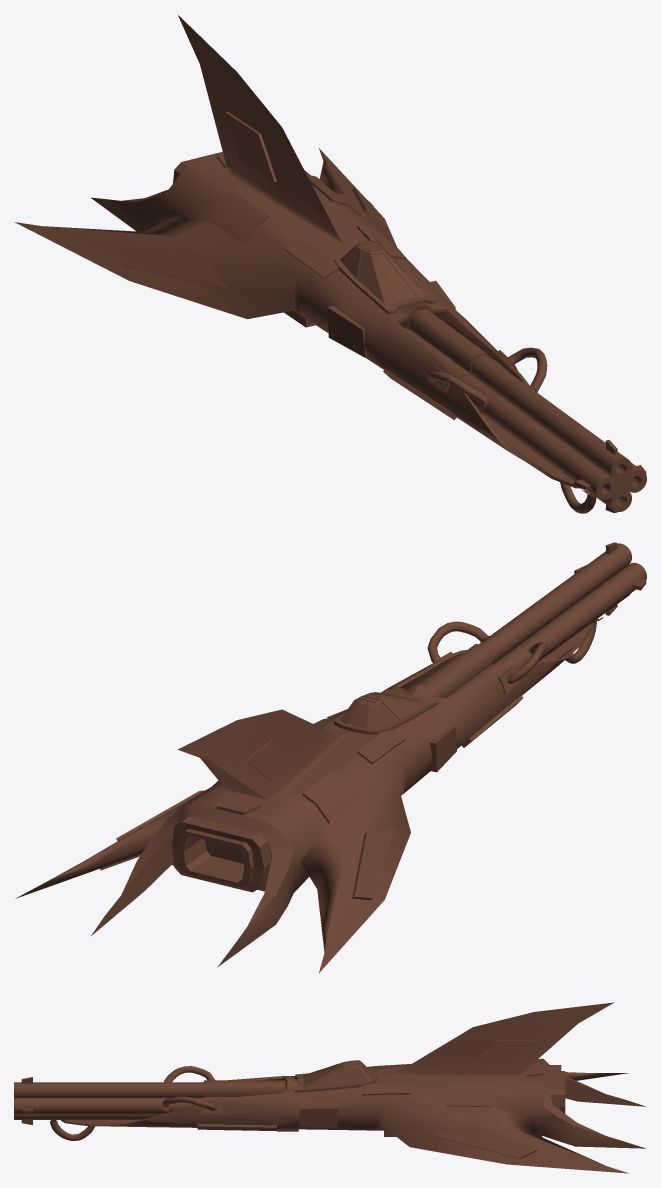
Rendered from Swift Blade II _Nontextured.fbx.
3 views of the same model, one above another, from view 1: azimuth 30°, elevation 25°; view 2: azimuth 150°, elevation 25°; view 3: azimuth 270°, elevation 25° (orthographic). The views are drawn at different scales.
Parts seen in each view (by area): view 1: polySurface72; view 2: polySurface72; view 3: polySurface72.
Boxes of the visible parts, <box> form: polySurface72: <box>14,15,646,513</box>; polySurface72: <box>15,542,646,972</box>; polySurface72: <box>14,1002,645,1173</box>.
Bounding box in the file's own units: 16.7 × 10.72 × 44.41.
